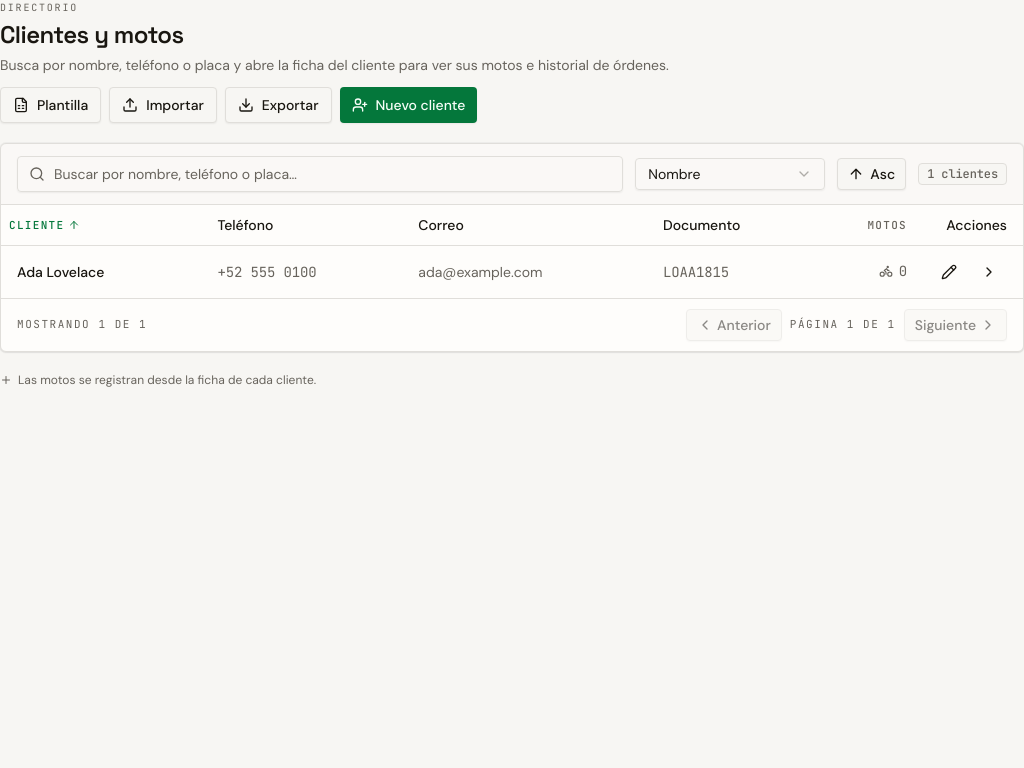
Test: CustomersPage › opens the edit dialog seeded with the customer's data
Expected: the link "Ada Lovelace" is shown, [17,262,104,280]
Click the button with test id "customers.edit_button.1" at {"x": 949, "y": 272}, box [931,254,967,290]
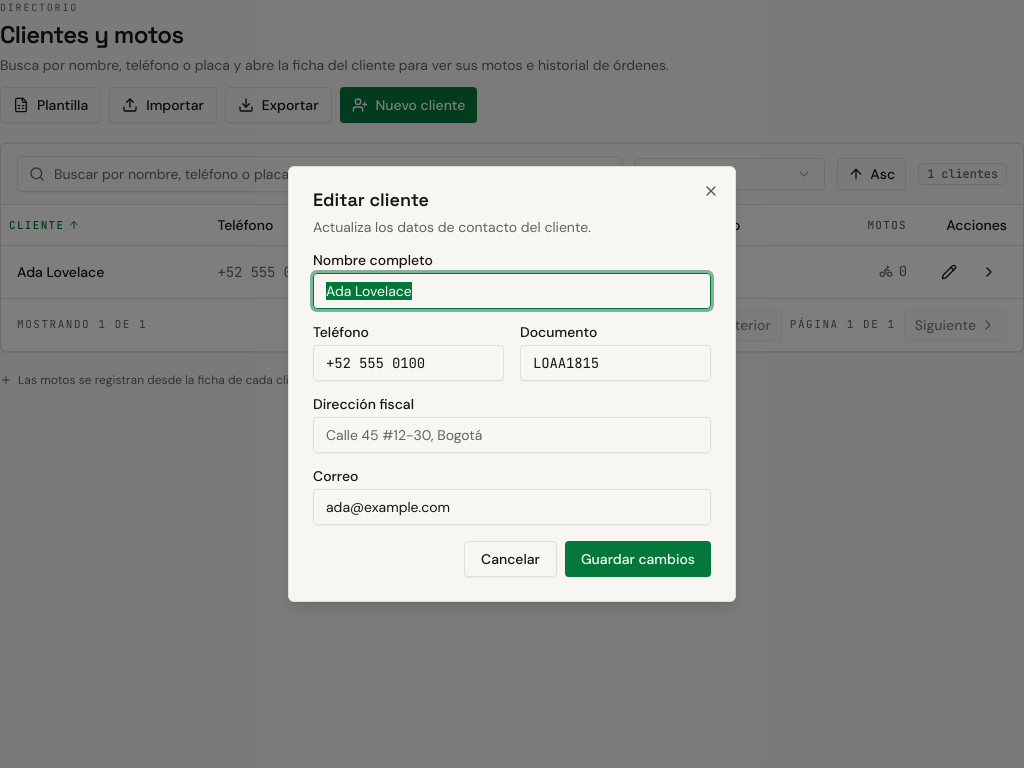
Result: the dialog with test id "customer.dialog" is shown at [288,166,736,602]
Result: the field with test id "customer.name_input" holds "Ada Lovelace" at [313,273,711,309]
Result: the field with test id "customer.phone_input" holds "+52 555 0100" at [313,345,504,381]
